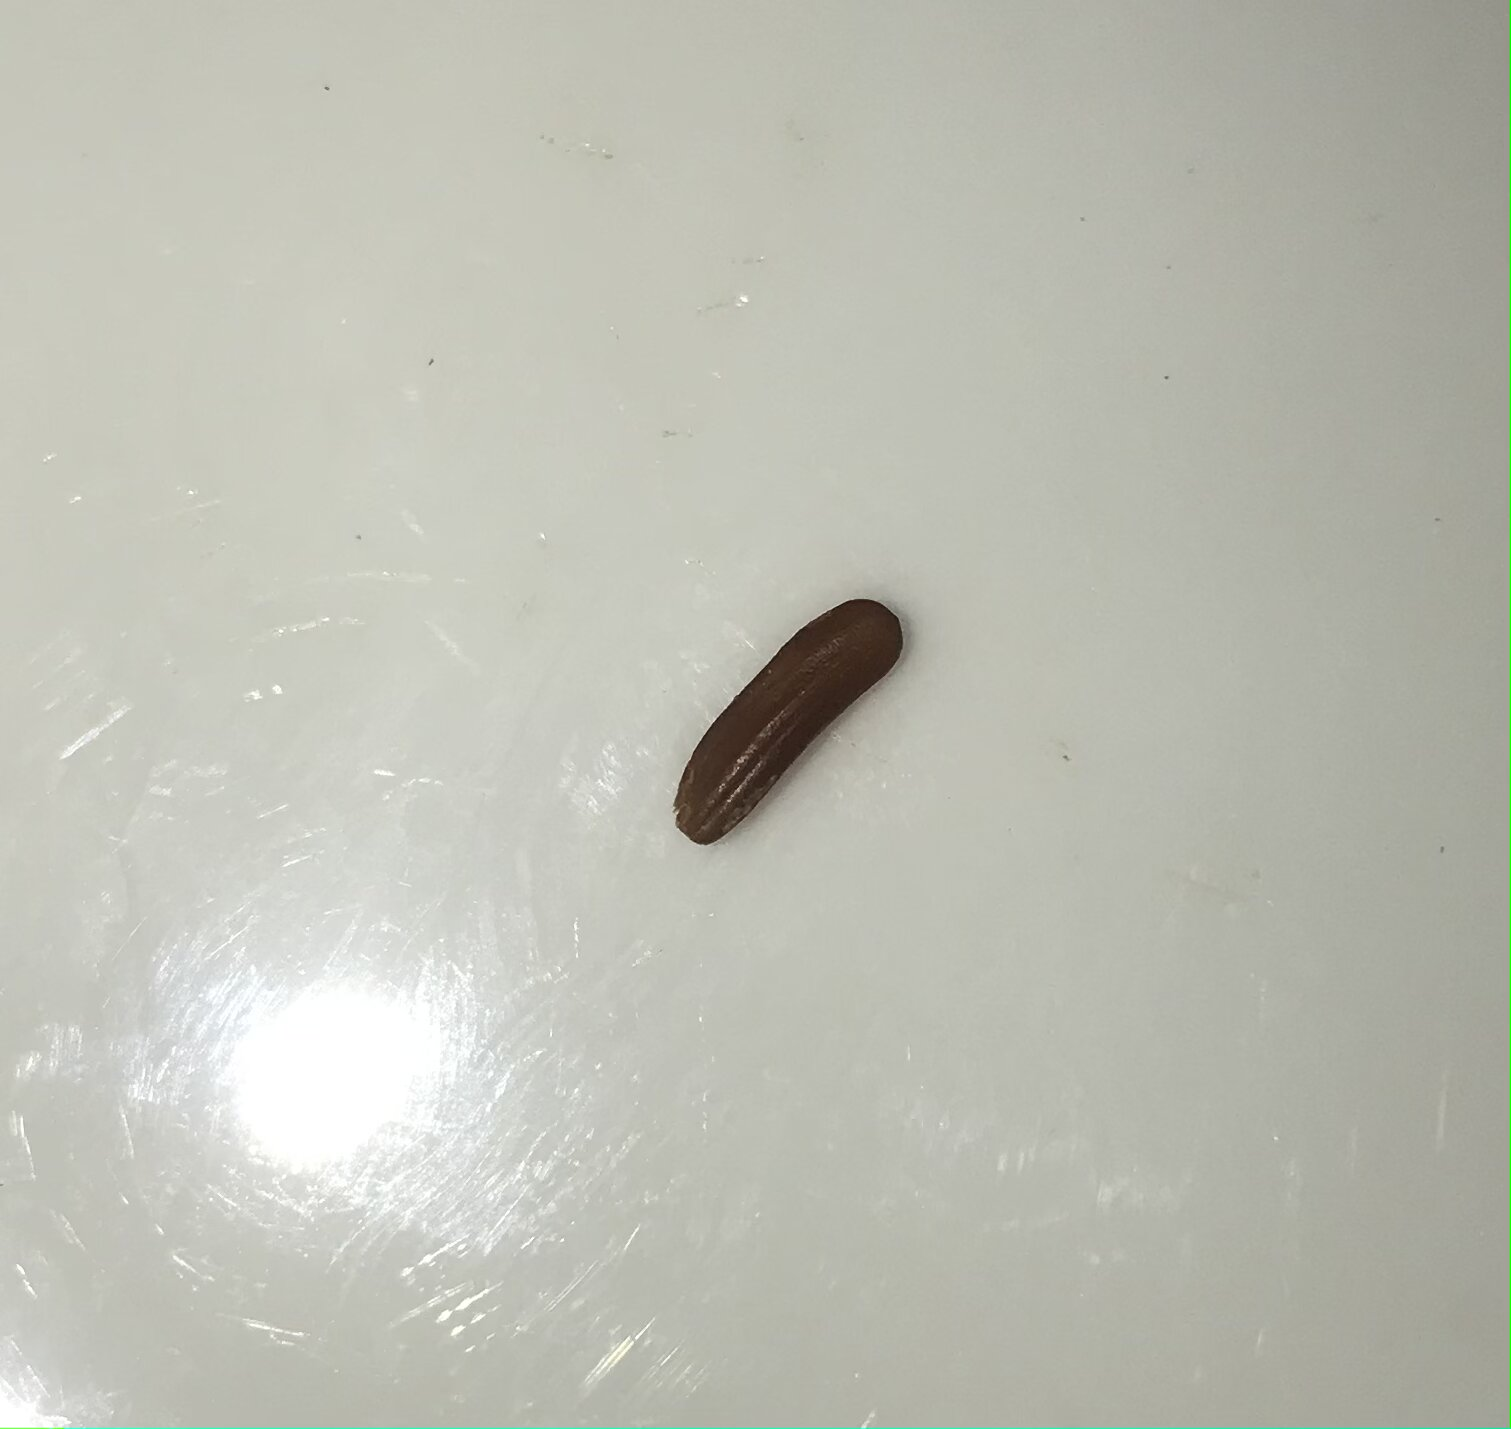Gao Huyet Rong: (668, 598, 920, 850)
